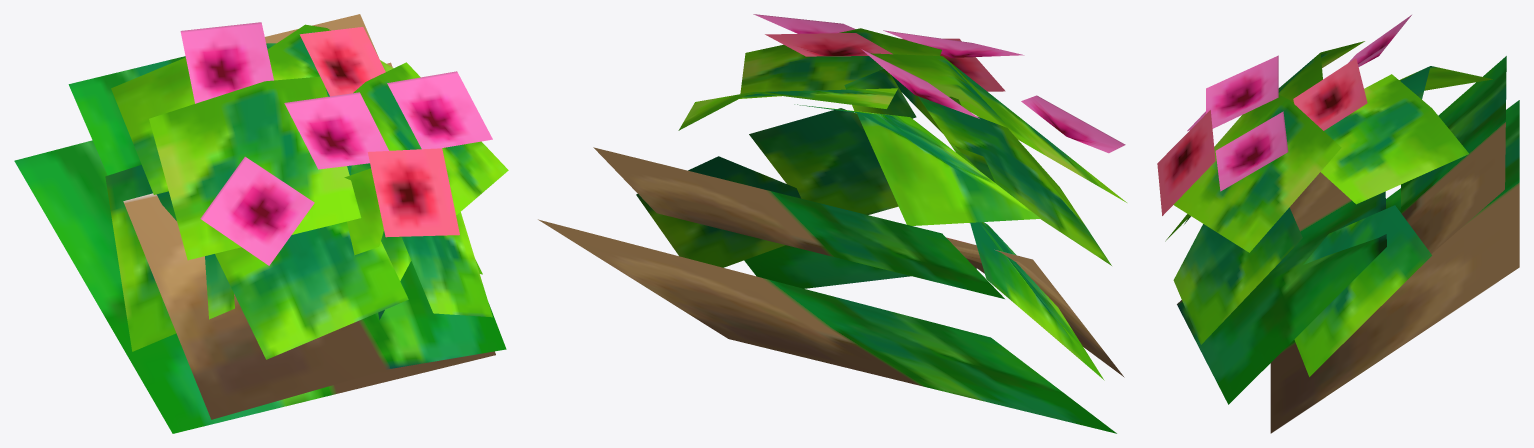
Rendered from fg_bushB_2_pi.dae.
The picture shows the model from 3 angles, left to right: view 1: azimuth 30°, elevation 25°; view 2: azimuth 150°, elevation 25°; view 3: azimuth 270°, elevation 25°; orthographic projection. The views are drawn at different scales.
Parts seen in each view (by area): view 1: fg_bushB_2_pi; view 2: fg_bushB_2_pi; view 3: fg_bushB_2_pi.
Boxes of the visible parts, x1,y1,x2,y2 form: fg_bushB_2_pi: (14, 14, 508, 433); fg_bushB_2_pi: (538, 14, 1126, 433); fg_bushB_2_pi: (1157, 15, 1519, 433).
Bounding box in the file's own units: 43.24 × 36.09 × 38.13.
1 material, 1 textured.
